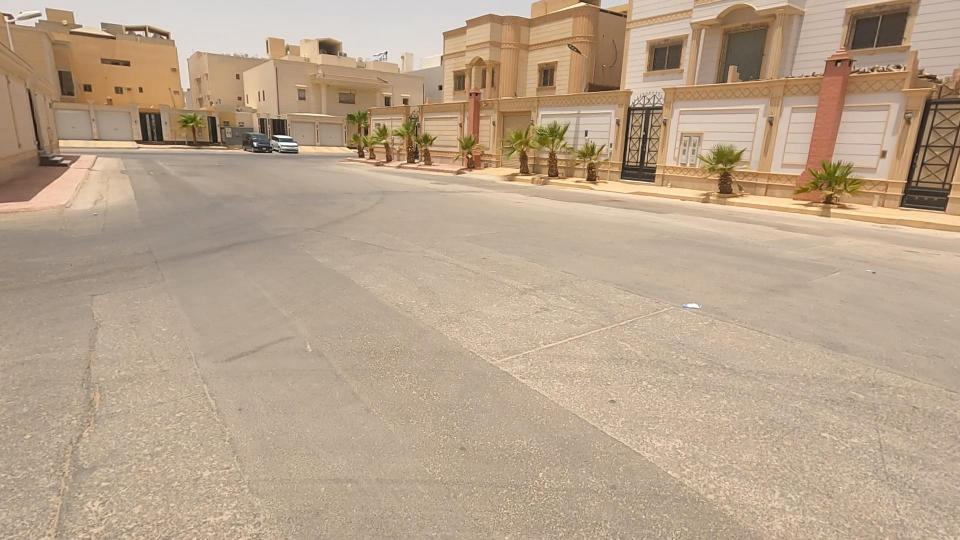GARBAGE: (664, 263, 724, 343)
